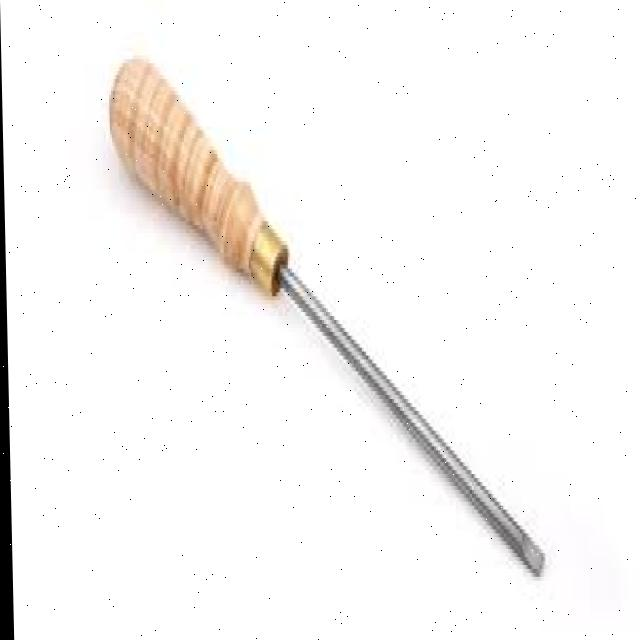Screwdriver: (110, 62, 542, 572)
